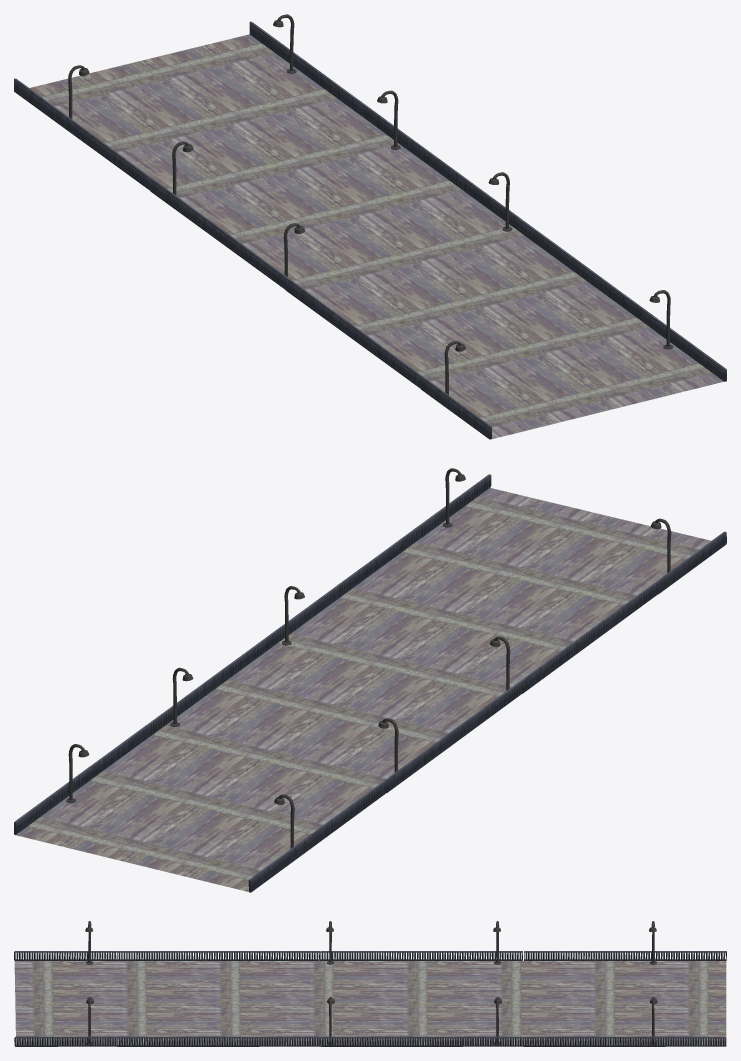
File: Boardwalk.glb
The picture shows the model from 3 angles, top to bottom: view 1: azimuth 30°, elevation 25°; view 2: azimuth 150°, elevation 25°; view 3: azimuth 270°, elevation 25°; orthographic projection. The views are drawn at different scales.
Visible parts, largest first — view 1: BoardFloor, Railing.003, Railing.002, Railing.001, Railing, Railing.006, Railing.005, Railing.007, Railing.004; view 2: BoardFloor, Railing.003, Railing.002, Railing.001, Railing.006, Railing, Railing.005, Railing.007, Railing.004; view 3: BoardFloor, Railing.006, Railing, Railing.005, Railing.001, Railing.003, Railing.002, Railing.004, Railing.007.
Part boxes in pixels (box(x1,y1,x2,y2)): BoardFloor: box(29, 34, 723, 438); Railing.003: box(14, 78, 151, 190); Railing.002: box(150, 178, 287, 289); Railing.001: box(285, 277, 422, 388); Railing: box(521, 220, 657, 331); Railing.006: box(249, 21, 386, 132); Railing.005: box(385, 121, 522, 232); Railing.007: box(421, 376, 491, 439); Railing.004: box(656, 319, 726, 381); BoardFloor: box(15, 488, 711, 891); Railing.003: box(248, 780, 386, 892); Railing.002: box(384, 680, 522, 792); Railing.001: box(521, 581, 657, 693); Railing.006: box(14, 722, 151, 834); Railing: box(288, 524, 422, 634); Railing.005: box(150, 624, 284, 735); Railing.007: box(656, 531, 726, 594); Railing.004: box(421, 474, 491, 537); BoardFloor: box(14, 960, 726, 1046); Railing.006: box(523, 1036, 726, 1046); Railing: box(117, 1036, 320, 1046); Railing.005: box(320, 1036, 523, 1046); Railing.001: box(117, 951, 319, 960); Railing.003: box(524, 951, 726, 960); Railing.002: box(320, 951, 522, 960); Railing.004: box(14, 1036, 117, 1046); Railing.007: box(14, 951, 117, 960).
Size of the model in its own units: 20.22 by 4.75 by 70.21.
Materials: 3 (2 with a texture image).
